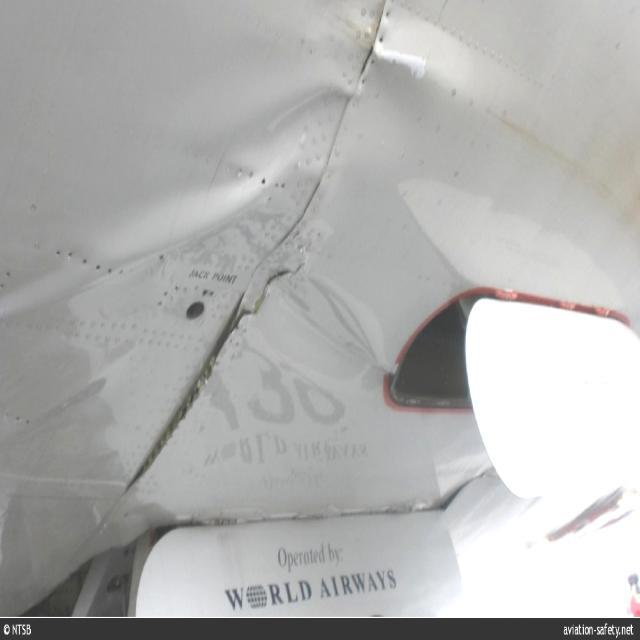crack: (233, 261, 306, 337)
